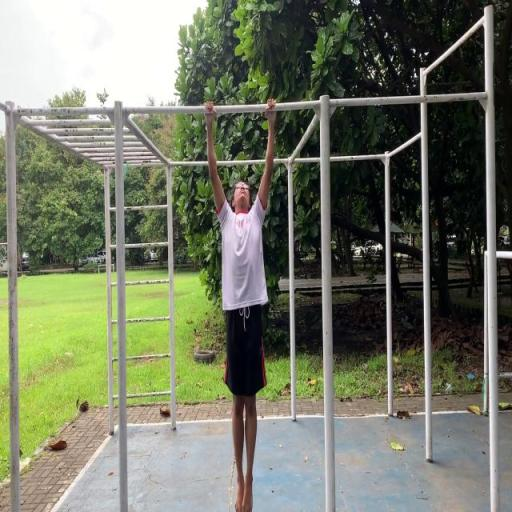Normal_BrenchPress: (204, 98, 278, 511)
